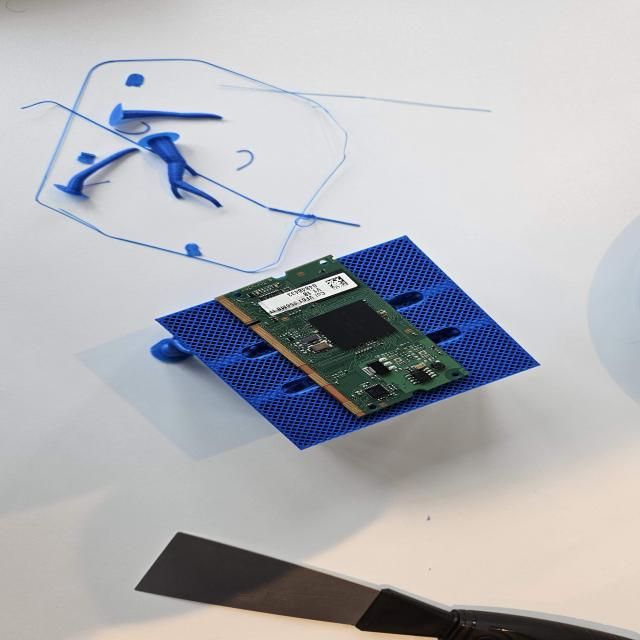som: (209, 250, 475, 424)
